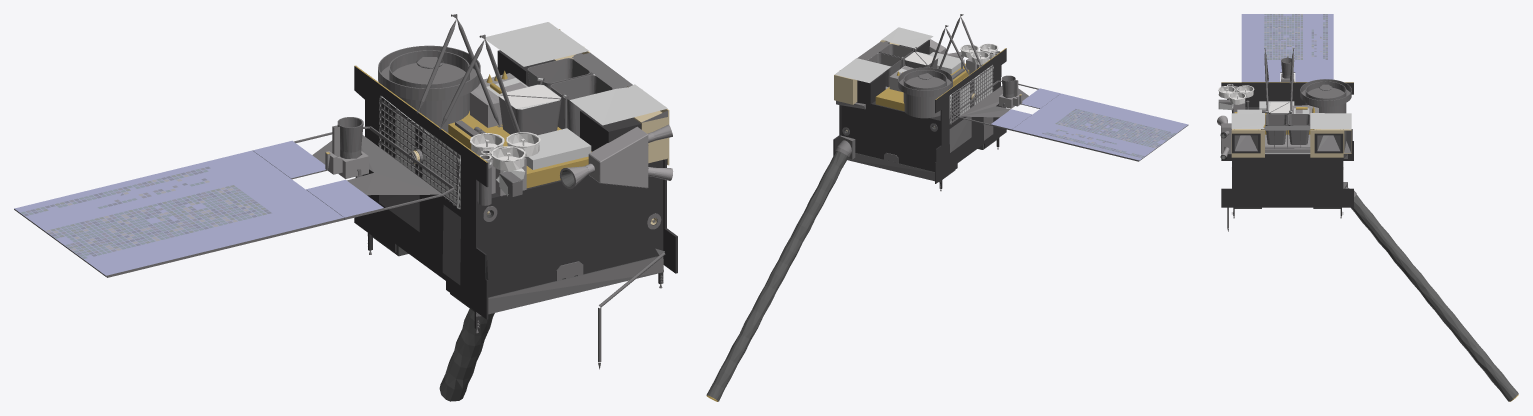
File: goes.glb
3 views of the same model, side by side, from view 1: azimuth 30°, elevation 25°; view 2: azimuth 150°, elevation 25°; view 3: azimuth 270°, elevation 25° (orthographic). The views are drawn at different scales.
Visible parts, largest first — view 1: Layer_0; view 2: Layer_0; view 3: Layer_0.
Part boxes in pixels (<box>): Layer_0: <box>14,14,677,401</box>; Layer_0: <box>706,14,1188,401</box>; Layer_0: <box>1217,14,1518,401</box>.
Size of the model in its own units: 0.1344 by 0.122 by 0.1113.
